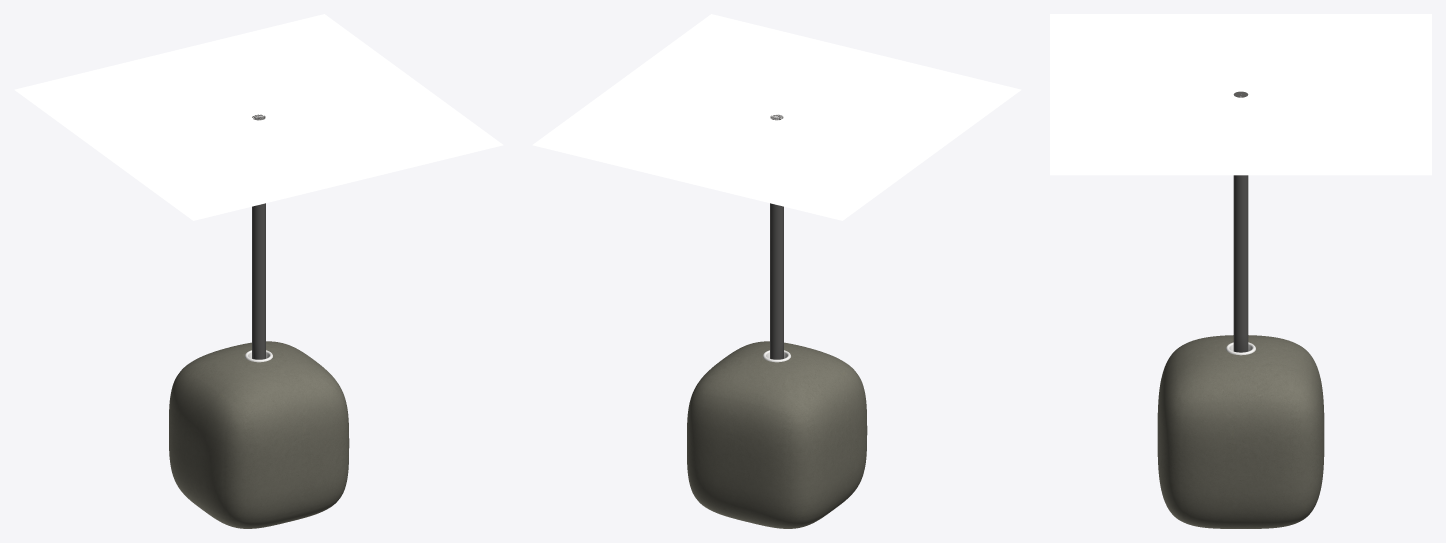
The model's file is opeq.glb.
3 views of the same model, side by side, from view 1: azimuth 30°, elevation 25°; view 2: azimuth 150°, elevation 25°; view 3: azimuth 270°, elevation 25° (orthographic). The views are drawn at different scales.
Parts seen in each view (by area): view 1: Holo; view 2: Holo; view 3: Holo.
Boxes of the visible parts, left/top/right/bottom form: Holo: left=14, top=14, right=503, bottom=528; Holo: left=532, top=14, right=1021, bottom=528; Holo: left=1050, top=14, right=1431, bottom=528.
Bounding box in the file's own units: 0.1831 × 0.218 × 0.1831.
12 materials, 3 textured.
